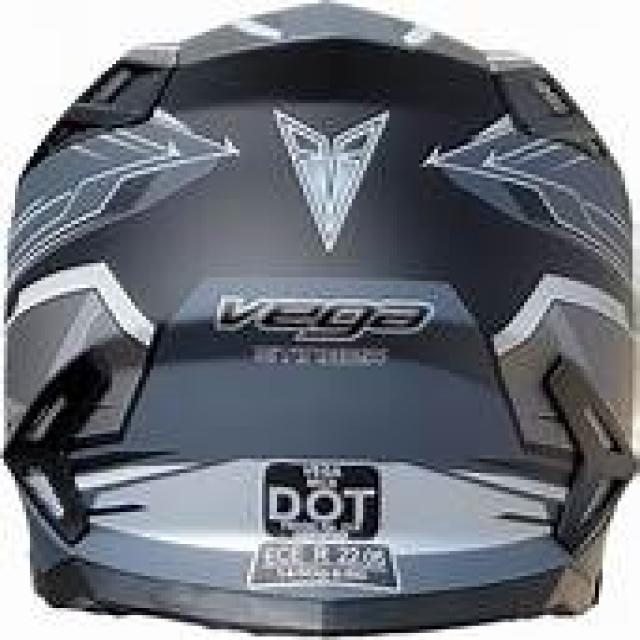helmet: (4, 14, 629, 629)
